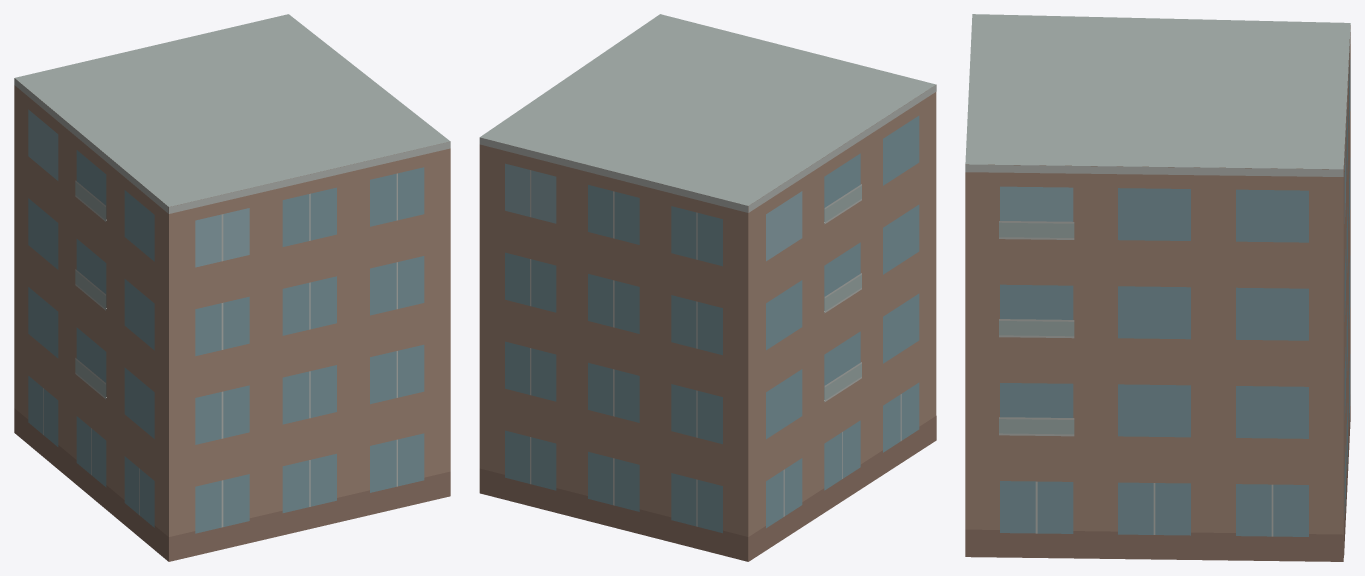
File: survey-upis-33001119.glb
3 views of the same model, side by side, from view 1: azimuth 30°, elevation 25°; view 2: azimuth 150°, elevation 25°; view 3: azimuth 270°, elevation 25° (orthographic). The views are drawn at different scales.
Parts seen in each view (by area): view 1: survey-upis-33001119.tmp; view 2: survey-upis-33001119.tmp; view 3: survey-upis-33001119.tmp.
Part boxes in pixels (x1,y1,x2,y2): survey-upis-33001119.tmp: (14,14,450,561); survey-upis-33001119.tmp: (479,14,936,561); survey-upis-33001119.tmp: (965,14,1350,561).
Size of the model in its own units: 10.45 by 12.3 by 10.95.
